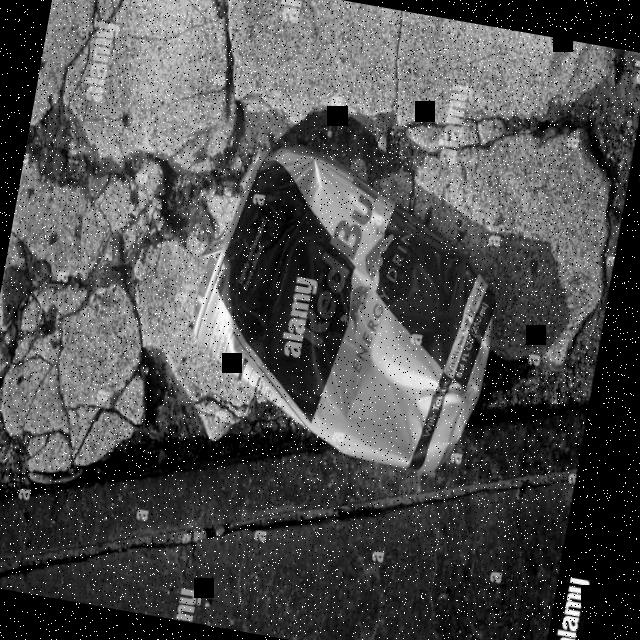can: (177, 138, 517, 483)
